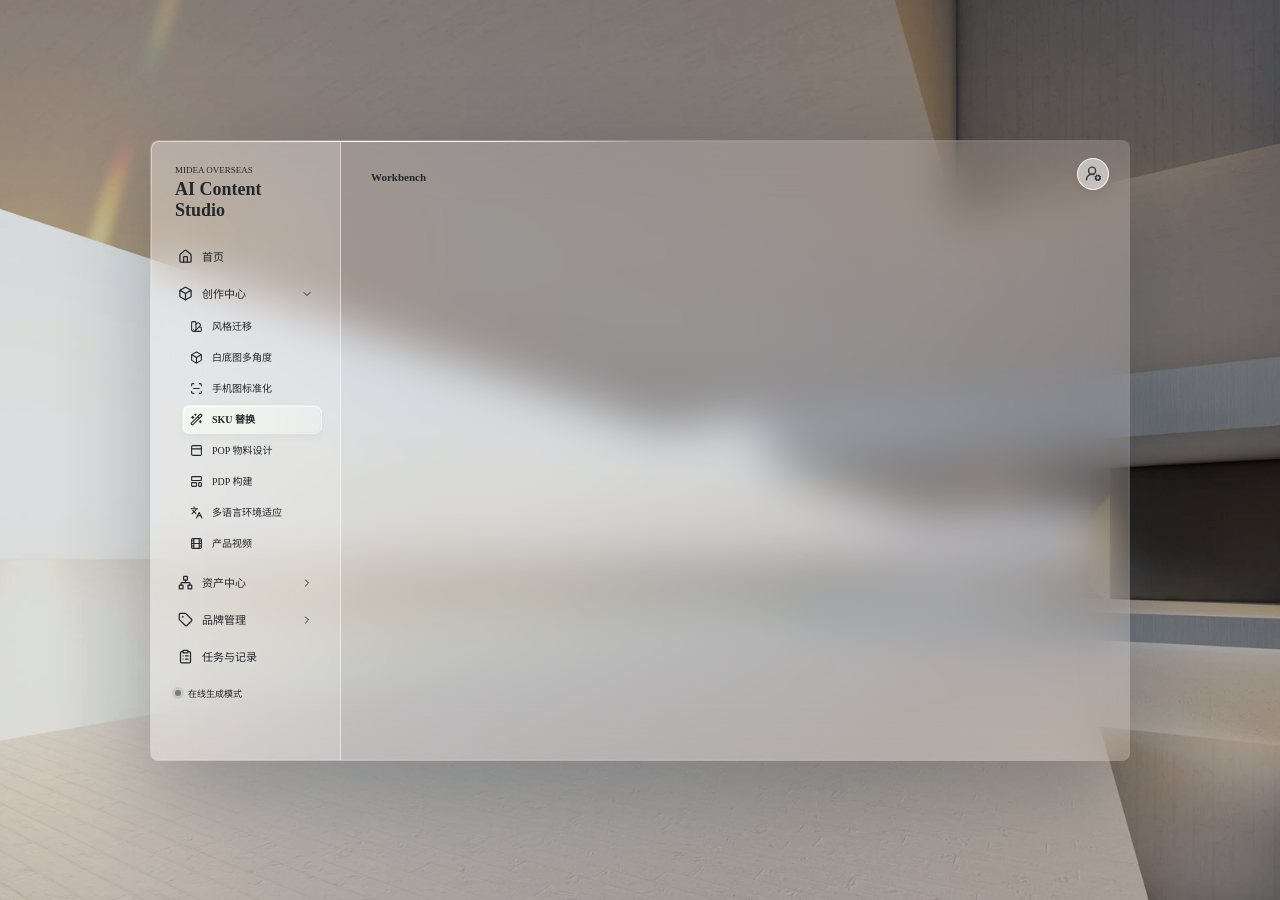
grouped navigation › preserves all routes and exposes the active tool
The image size is (1280, 900).
Click the button "资产中心".
click(246, 583)  # box [169,567,322,599]
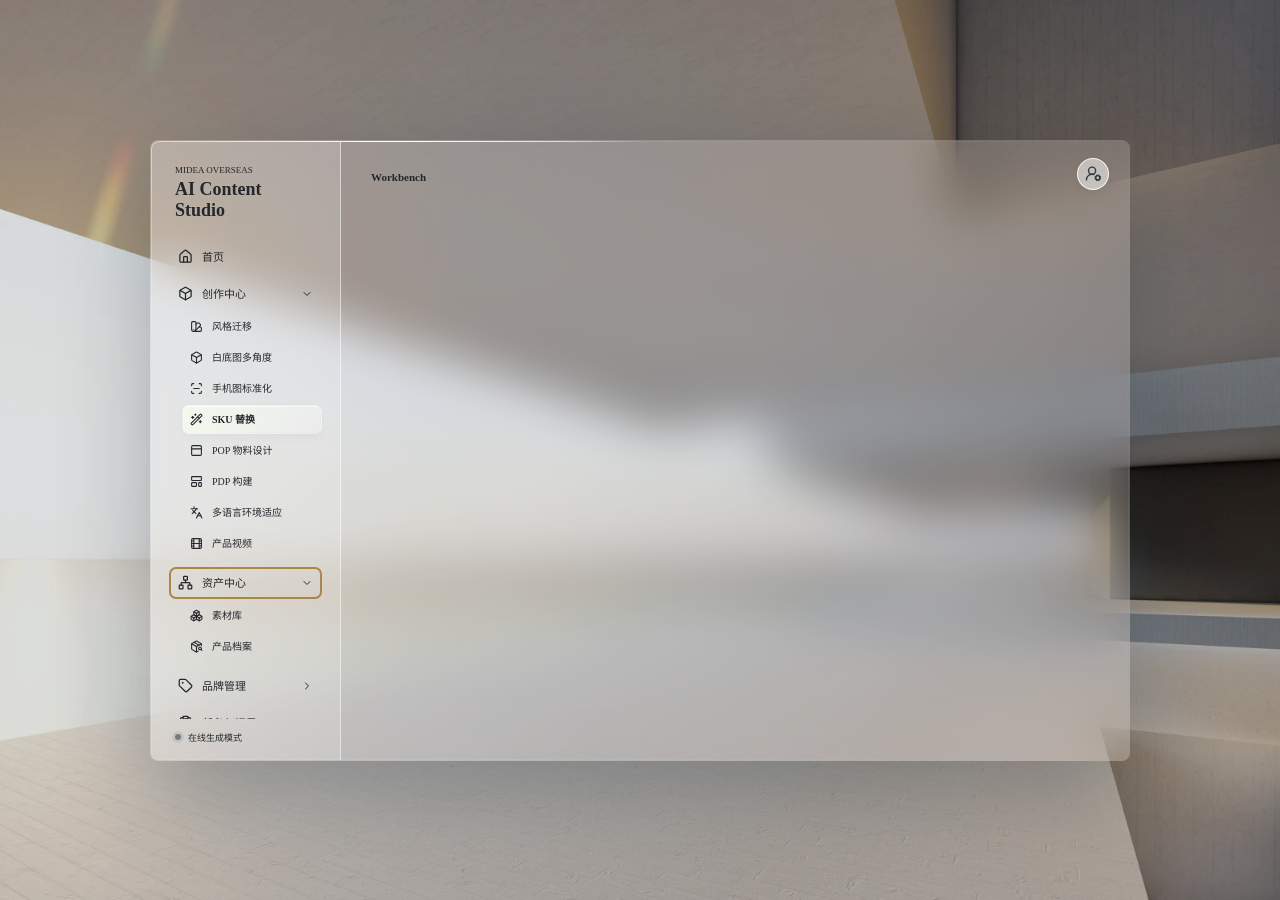
Click the button "品牌管理".
click(246, 686)  # box [169,670,322,702]
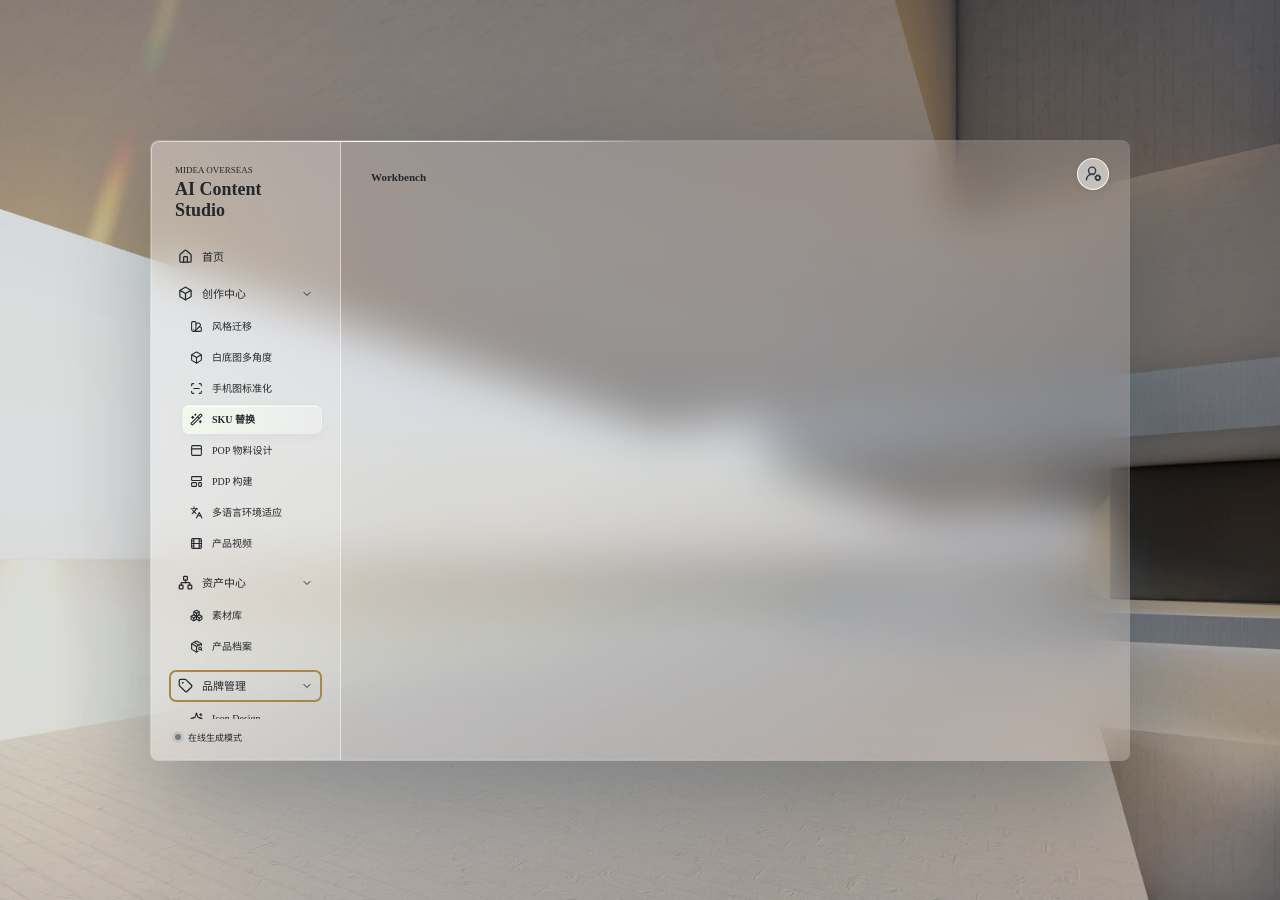
Click the button "创作中心".
click(246, 294)  # box [169,278,322,310]
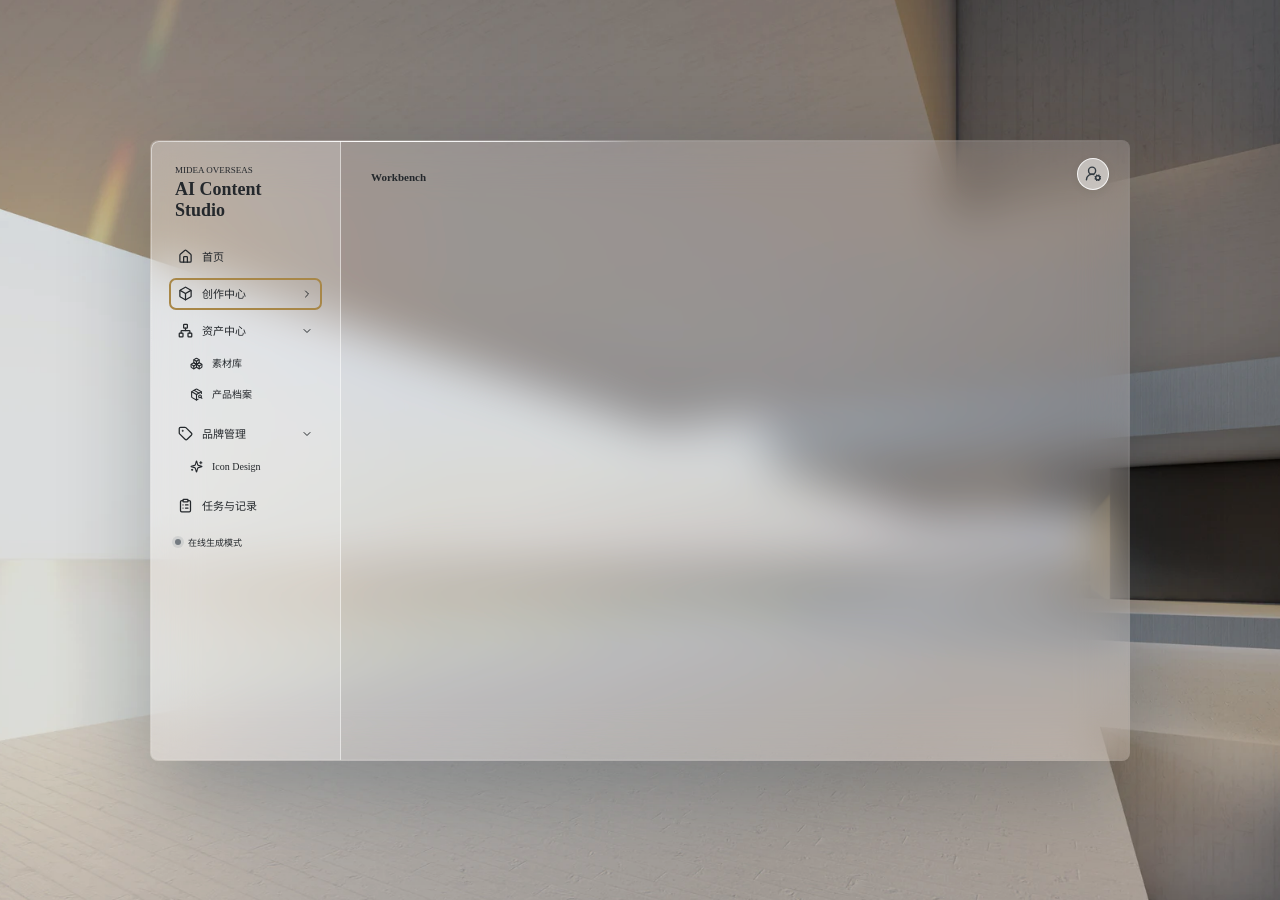
Expected: the button named "用户设置" is shown, [1077,158,1109,190]
Expected: the link "SKU 替换" is gone
